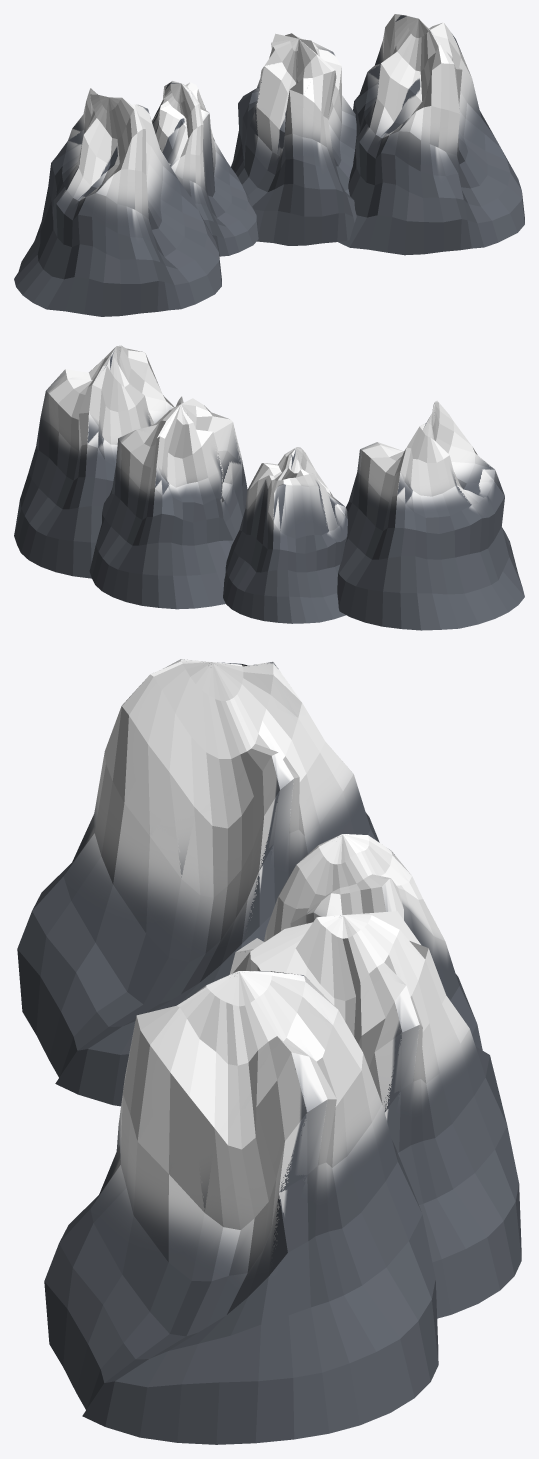
Rendered from Montagne.fbx.
The picture shows the model from 3 angles, top to bottom: view 1: azimuth 30°, elevation 25°; view 2: azimuth 150°, elevation 25°; view 3: azimuth 270°, elevation 25°; orthographic projection. The views are drawn at different scales.
Visible parts, largest first — view 1: montagna; view 2: montagna; view 3: montagna.
Boxes of the visible parts, x1,y1,x2,y2 form: montagna: [14, 14, 524, 316]; montagna: [14, 345, 524, 630]; montagna: [17, 659, 521, 1444].
Size of the model in its own units: 12235 by 5091 by 5594.
